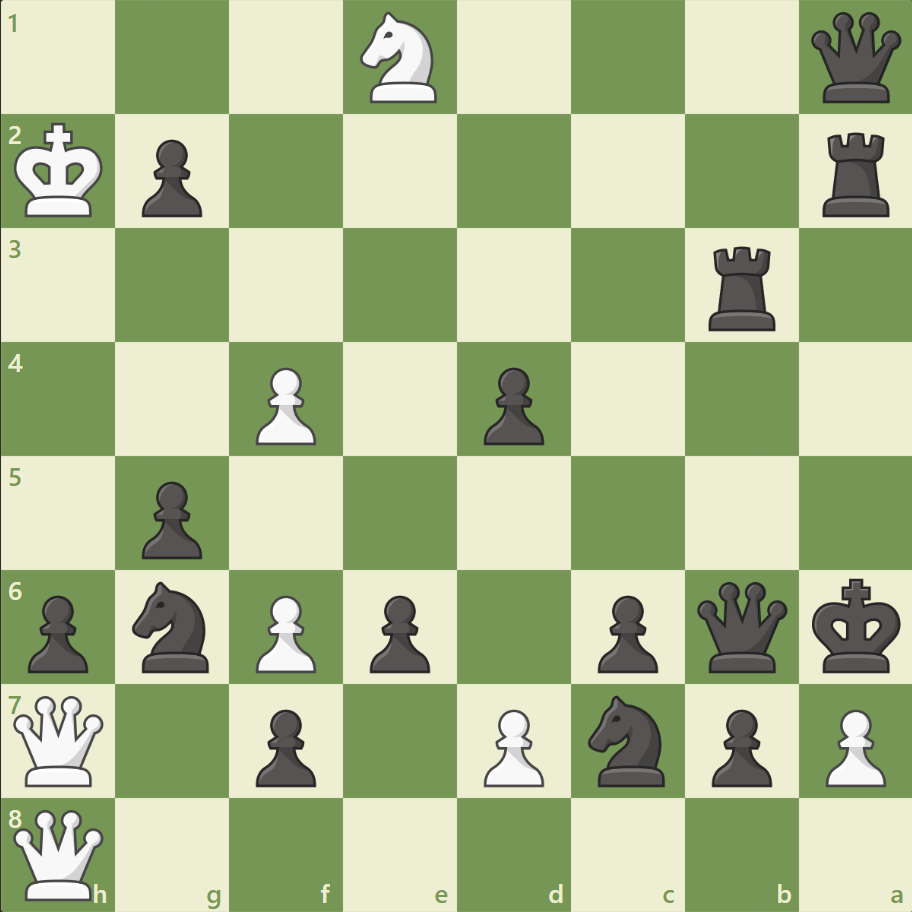K: (11, 117, 111, 225)
N: (351, 7, 449, 110)
P: (474, 700, 549, 791), (247, 586, 322, 677), (247, 359, 322, 450), (815, 700, 889, 791)
Q: (10, 804, 109, 903), (10, 690, 109, 789)
k: (806, 571, 906, 679)
n: (124, 575, 222, 677), (579, 688, 676, 791)
p: (701, 700, 776, 791), (247, 700, 322, 791), (20, 586, 95, 677), (133, 473, 208, 564), (474, 359, 549, 450), (133, 132, 208, 223), (588, 586, 662, 677), (361, 586, 435, 677)
q: (691, 576, 790, 676), (805, 9, 904, 108)
r: (700, 239, 783, 336), (814, 125, 897, 222)
